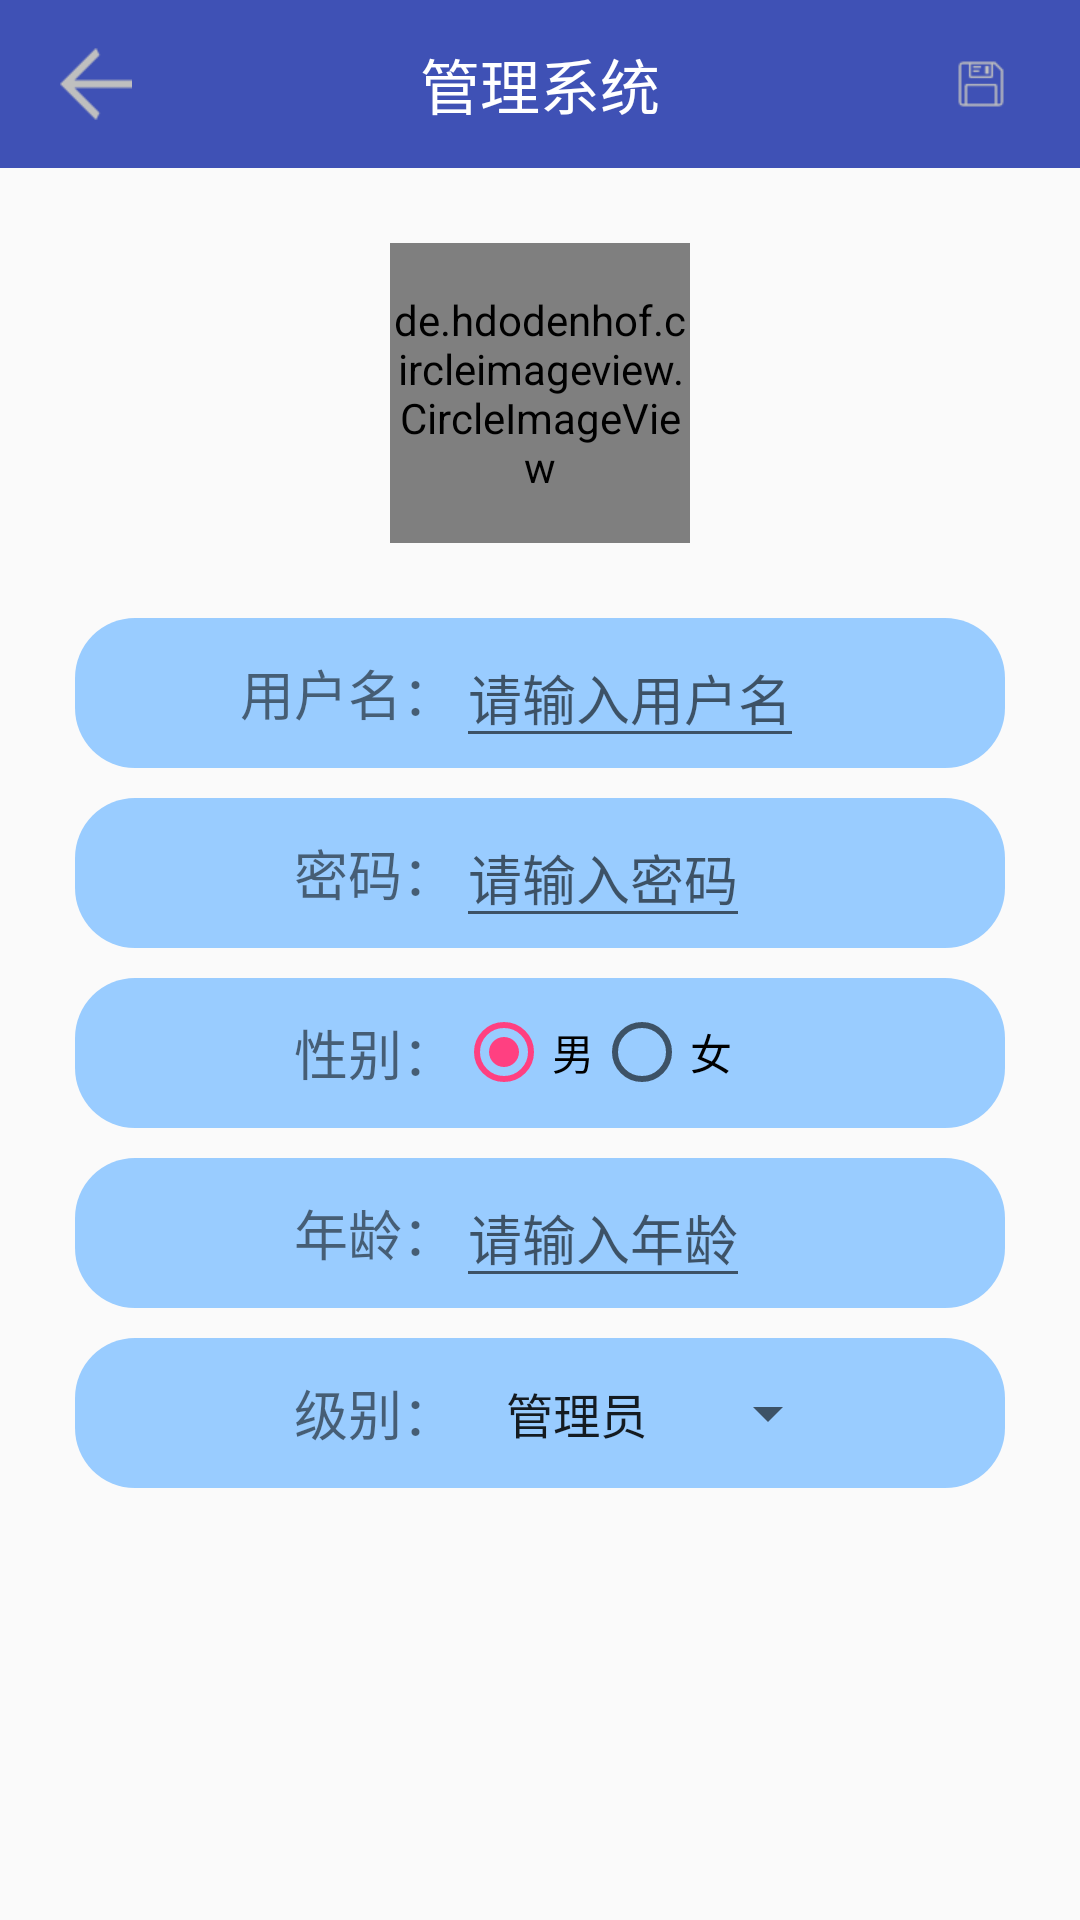

Screen size 1080*1920. Icon name, then its center in pixels as [x,y]:
return: [96,84]
sava: [981,84]
